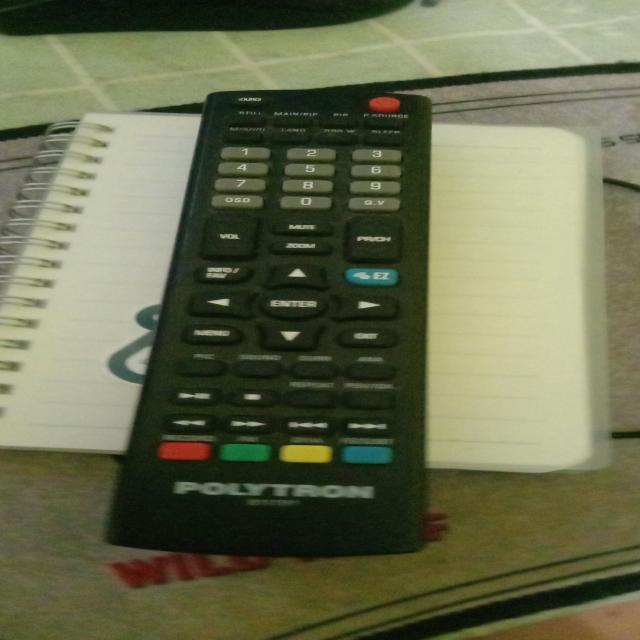remote: (85, 86, 436, 566)
